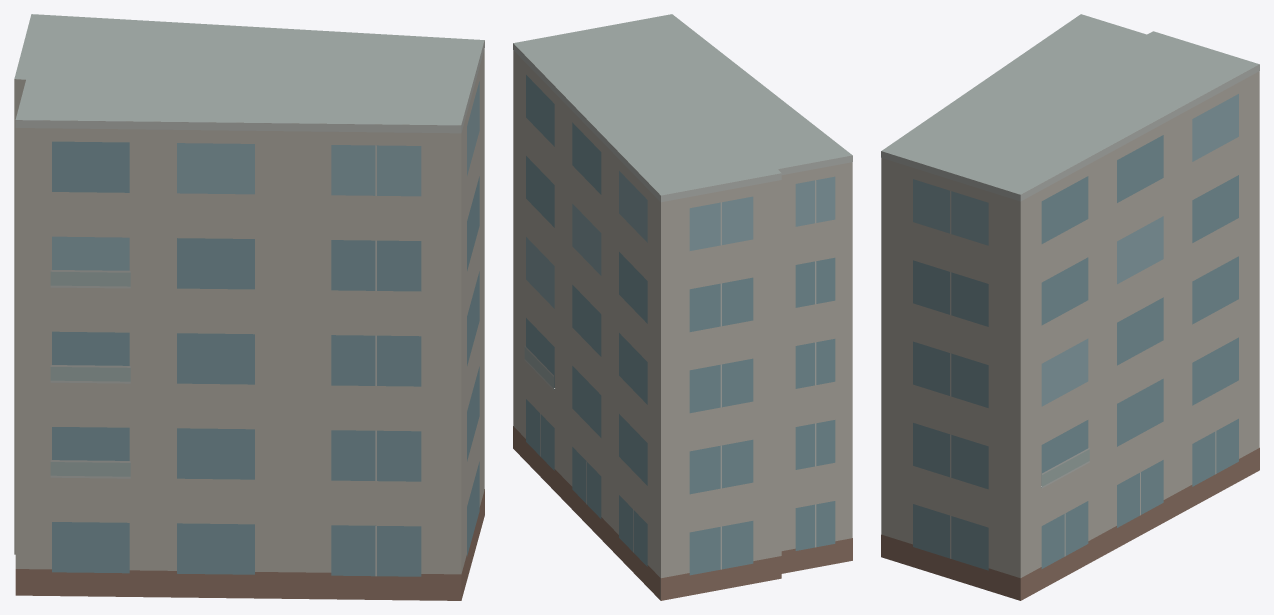
The model's file is survey-upis-32610740.glb.
3 views of the same model, side by side, from view 1: azimuth 30°, elevation 25°; view 2: azimuth 150°, elevation 25°; view 3: azimuth 270°, elevation 25° (orthographic). The views are drawn at different scales.
Parts seen in each view (by area): view 1: survey-upis-32610740.tmp; view 2: survey-upis-32610740.tmp; view 3: survey-upis-32610740.tmp.
Boxes of the visible parts, x1=… form: survey-upis-32610740.tmp: x1=14, y1=14, x2=484, y2=600; survey-upis-32610740.tmp: x1=513, y1=14, x2=852, y2=600; survey-upis-32610740.tmp: x1=881, y1=14, x2=1259, y2=600.
Bounding box in the file's own units: 14.04 × 14.7 × 12.43.
